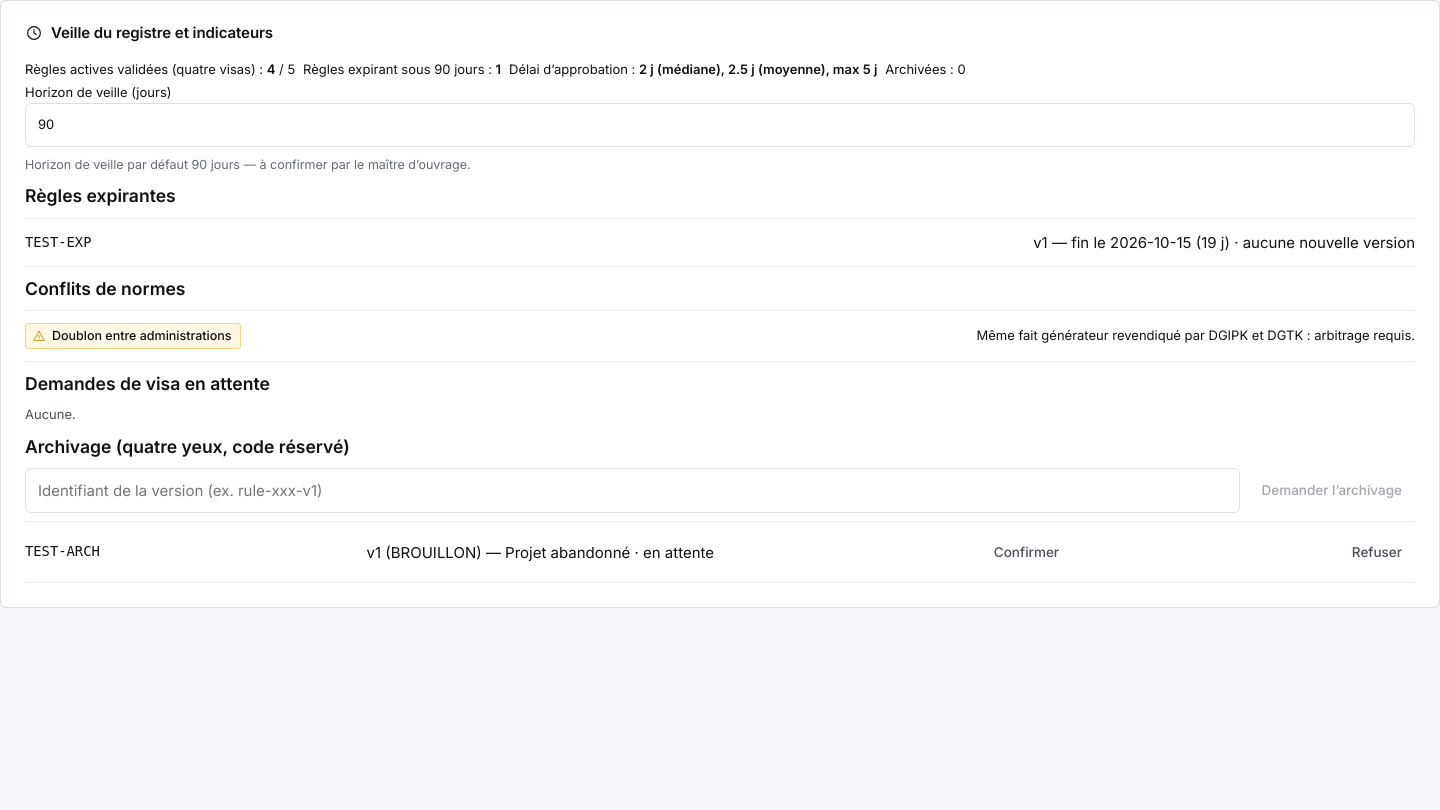
Test case: Module 26 — veille du registre › règles expirantes, conflits de normes, délai d’approbation, archivage confirmé par une autre personne
Check: the text "TEST-EXP" is shown, box [25, 232, 92, 253]
Check: the text "Doublon entre administrations" is shown, box [52, 326, 232, 346]
Click the button "Confirmer". click: (1026, 552)
box: [981, 534, 1072, 570]
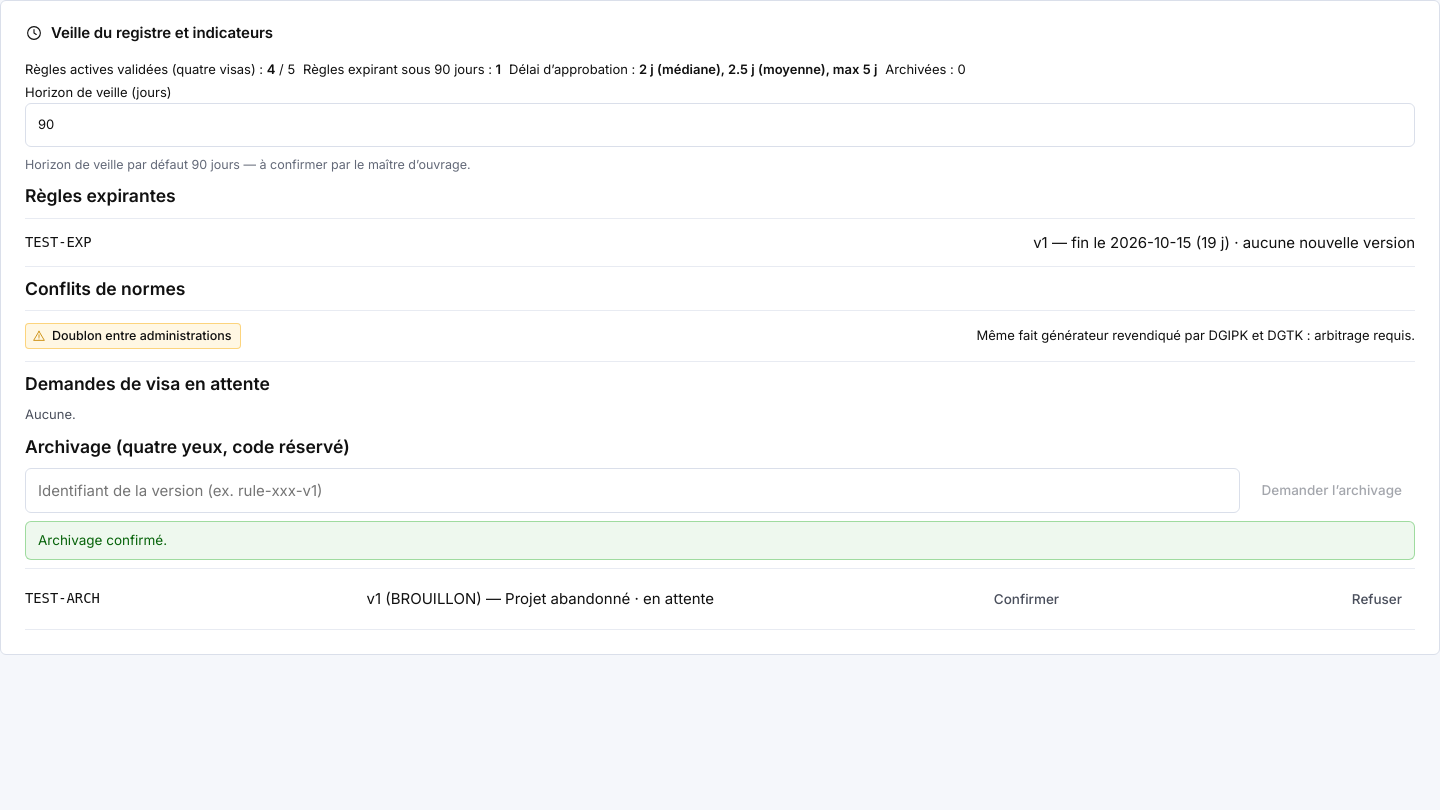
Check: the text "Archivage confirmé." is shown, box [25, 521, 1415, 560]
